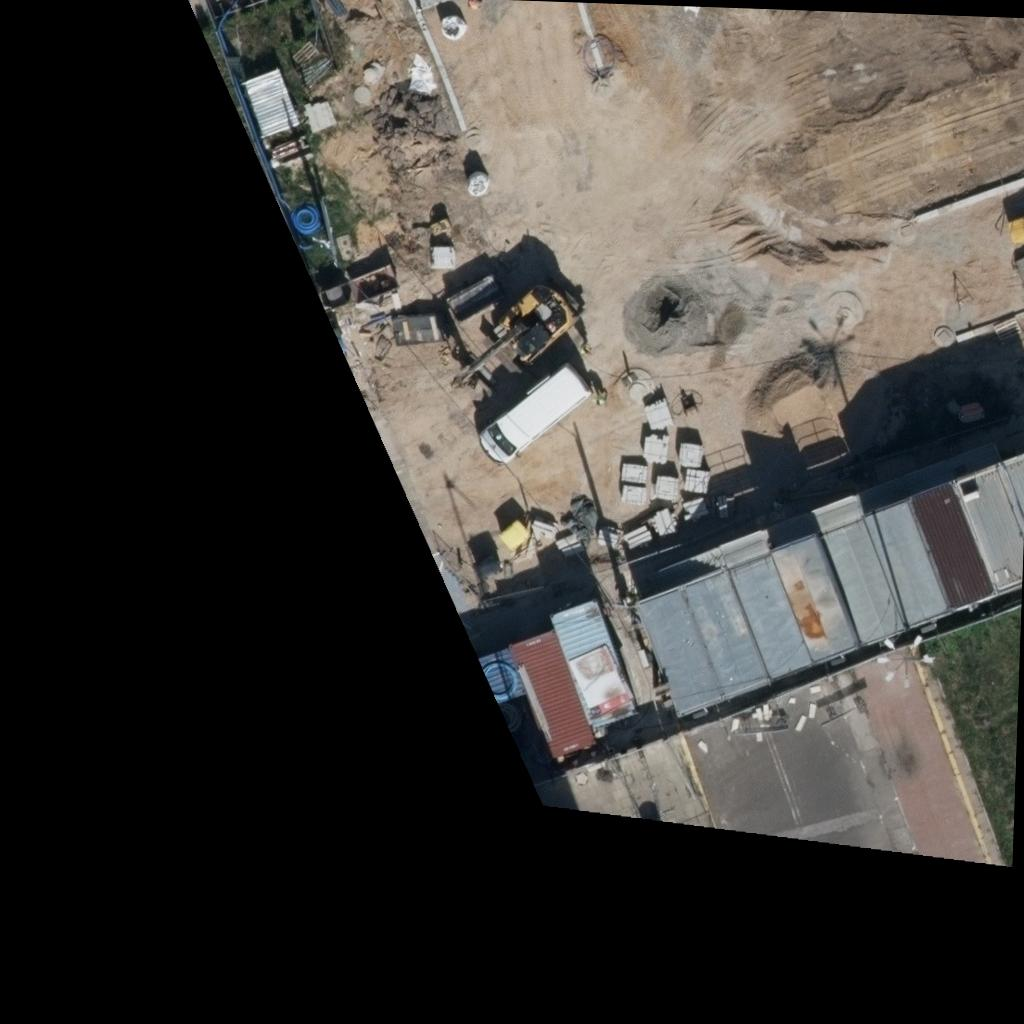koparka: (451, 283, 578, 391)
samochod_osobowy: (479, 362, 591, 464)
